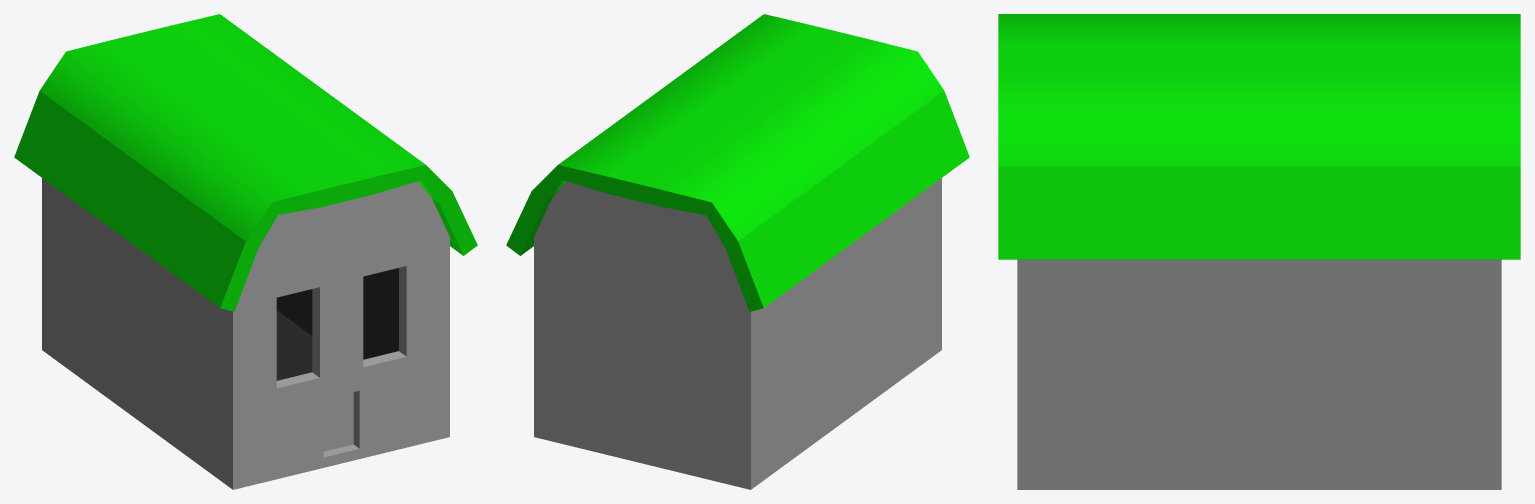
File: Building_Side.fbx
The picture shows the model from 3 angles, left to right: view 1: azimuth 30°, elevation 25°; view 2: azimuth 150°, elevation 25°; view 3: azimuth 270°, elevation 25°; orthographic projection. The views are drawn at different scales.
Visible parts, largest first — view 1: polySurface5, polySurface6; view 2: polySurface5, polySurface6; view 3: polySurface6, polySurface5.
Part boxes in pixels (x1,y1,x2,y2): polySurface5: [42, 178, 449, 489]; polySurface6: [14, 14, 477, 311]; polySurface5: [534, 178, 941, 489]; polySurface6: [506, 14, 969, 311]; polySurface6: [998, 14, 1520, 259]; polySurface5: [1017, 259, 1501, 489].
Bounding box in the file's own units: 1.53 × 1.62 × 2.12.
